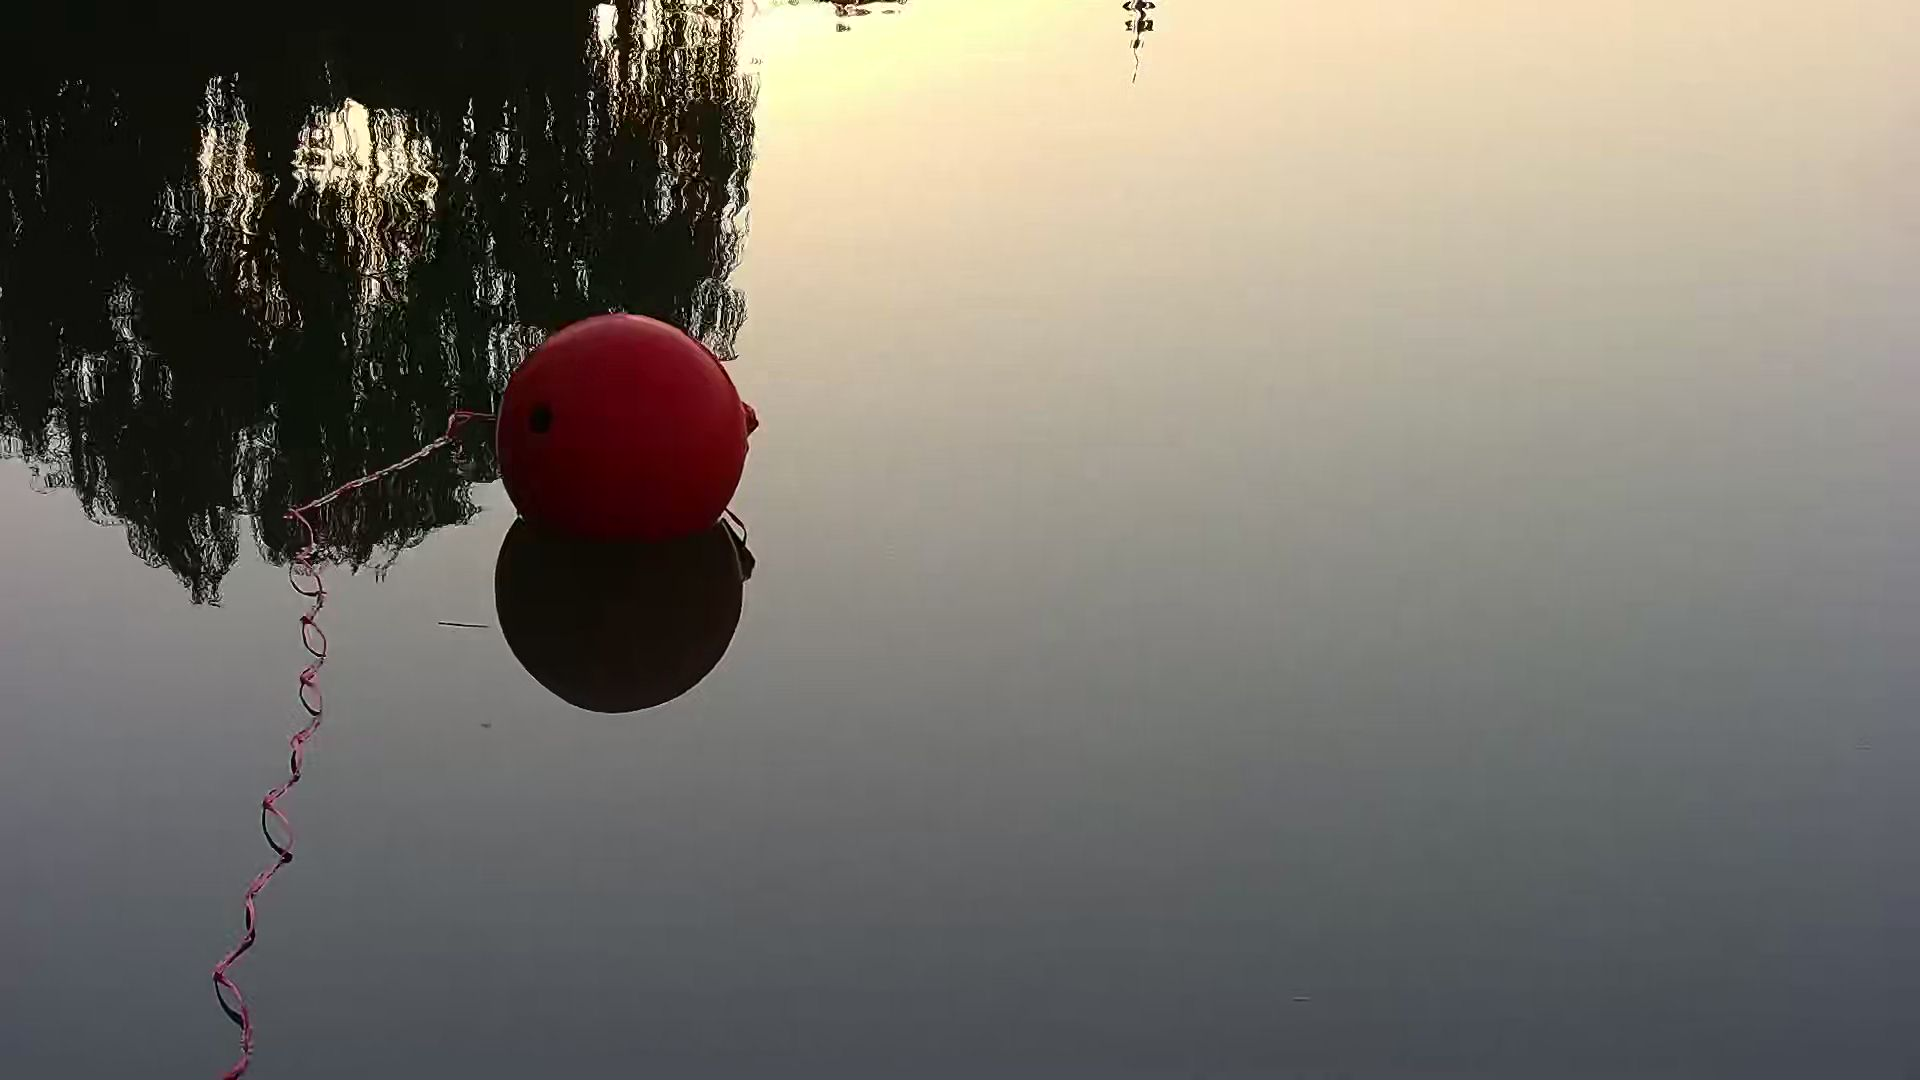rubbish: (505, 316, 762, 550)
